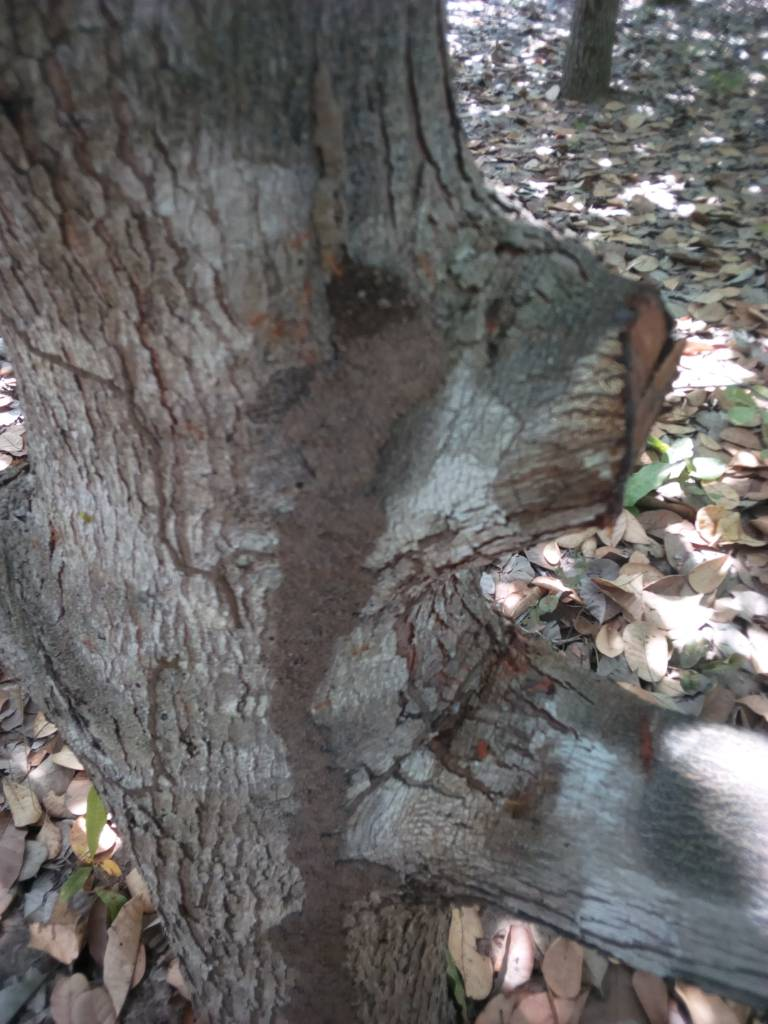Termites: (268, 308, 449, 1024)
